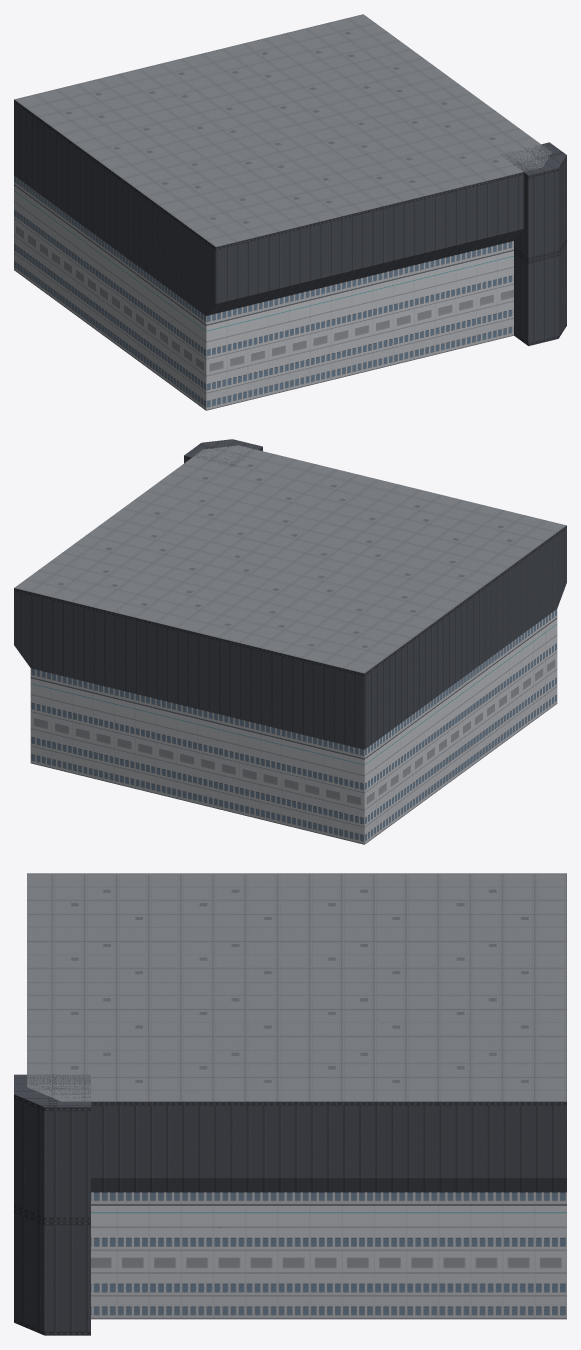
Rendered from BLD_POD_CapCorner.fbx.
The picture shows the model from 3 angles, top to bottom: view 1: azimuth 30°, elevation 25°; view 2: azimuth 150°, elevation 25°; view 3: azimuth 270°, elevation 25°; orthographic projection. The views are drawn at different scales.
Parts seen in each view (by area): view 1: BLD_POD_CapCorner; view 2: BLD_POD_CapCorner; view 3: BLD_POD_CapCorner.
Part boxes in pixels (x1=…): BLD_POD_CapCorner: x1=14, y1=14, x2=566, y2=410; BLD_POD_CapCorner: x1=14, y1=439, x2=566, y2=844; BLD_POD_CapCorner: x1=14, y1=873, x2=566, y2=1335.
Size of the model in its own units: 108 by 49 by 108.
